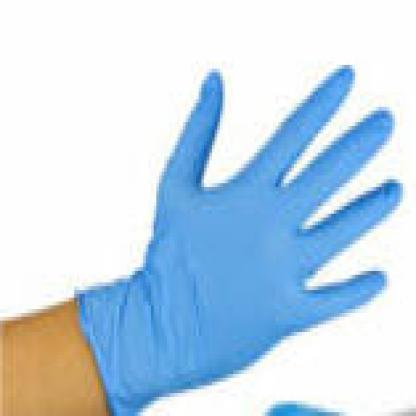with_gloves: (77, 61, 405, 412)
